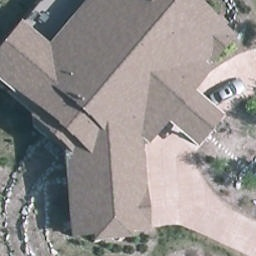car: (210, 79, 246, 106)
